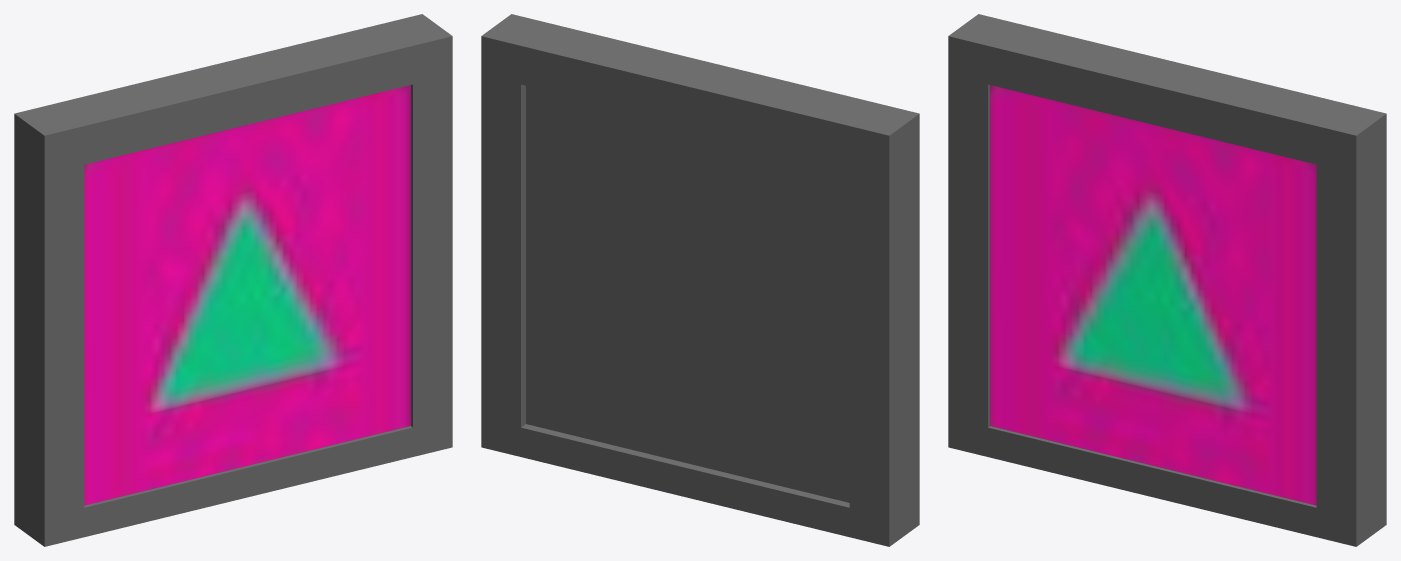
The model's file is Sign_Small_2.glb.
The picture shows the model from 3 angles, left to right: view 1: azimuth 30°, elevation 25°; view 2: azimuth 150°, elevation 25°; view 3: azimuth 330°, elevation 25°; orthographic projection.
Parts seen in each view (by area): view 1: Sign_Small_2; view 2: Sign_Small_2; view 3: Sign_Small_2.
Part boxes in pixels (<box>): Sign_Small_2: <box>14,14,452,546</box>; Sign_Small_2: <box>481,14,919,546</box>; Sign_Small_2: <box>948,14,1386,546</box>.
Size of the model in its own units: 0.4802 by 0.4622 by 0.0618.
Materials: 2 (1 with a texture image).
